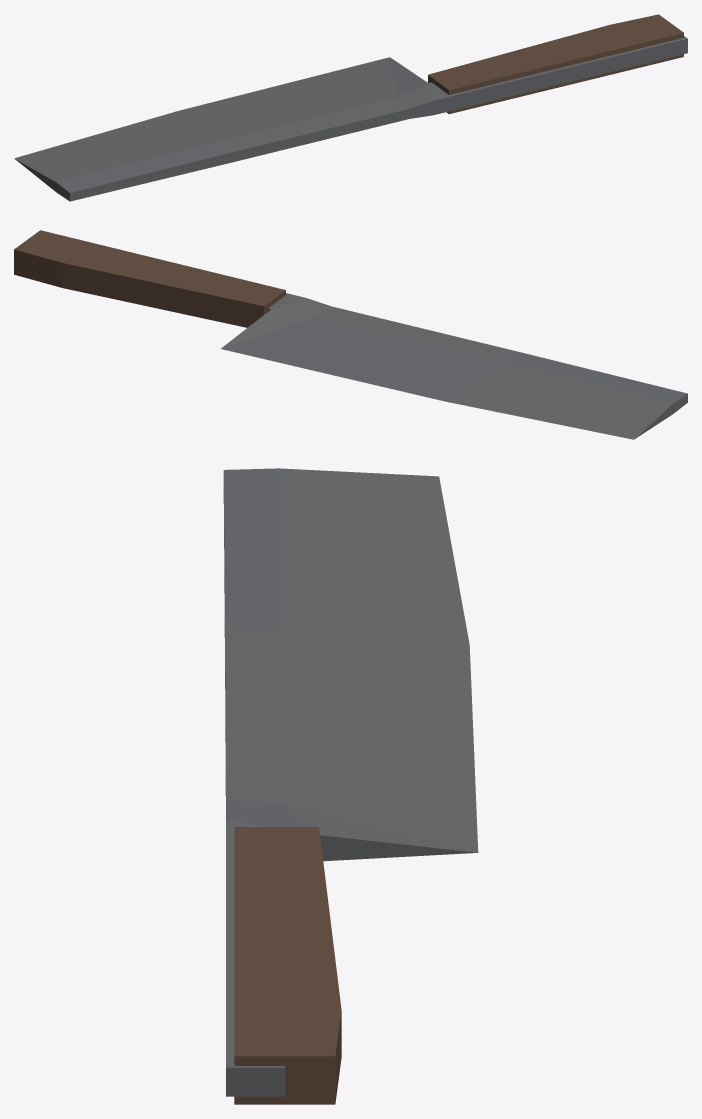
Rendered from nakiriKnife.fbx.
3 views of the same model, one above another, from view 1: azimuth 30°, elevation 25°; view 2: azimuth 150°, elevation 25°; view 3: azimuth 270°, elevation 25° (orthographic). The views are drawn at different scales.
Parts seen in each view (by area): view 1: nakiriKnife; view 2: nakiriKnife; view 3: nakiriKnife.
Boxes of the visible parts, x1,y1,x2,y2 form: nakiriKnife: [14, 14, 687, 201]; nakiriKnife: [14, 230, 687, 439]; nakiriKnife: [223, 468, 478, 1104].
Bounding box in the file's own units: 53.37 × 1.98 × 9.48.
Materials: 1 (1 with a texture image).
